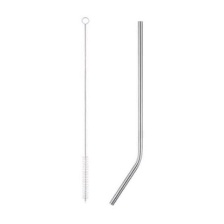drinking_straw: (104, 16, 150, 210)
